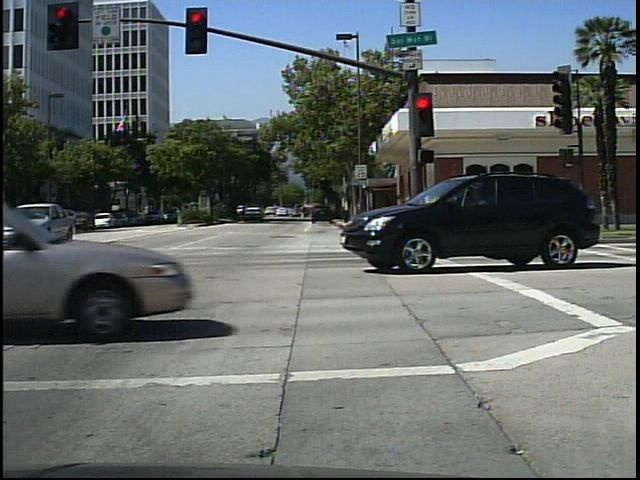person: (295, 203, 308, 221)
